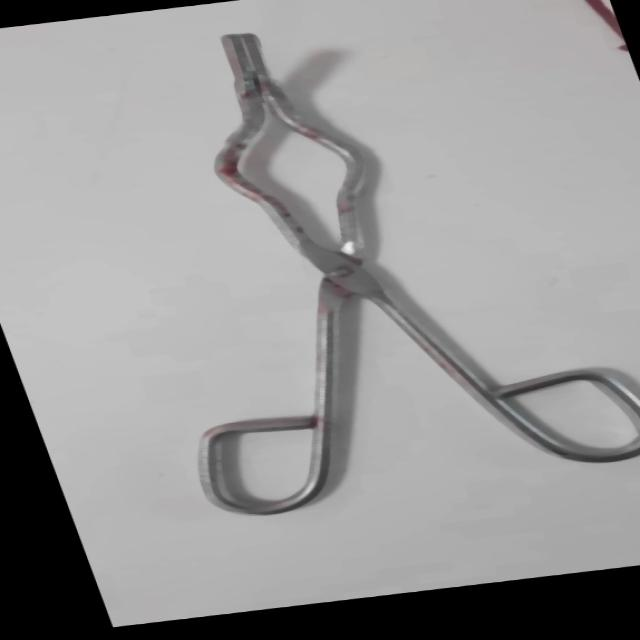Tongue: (14, 0, 640, 526)
